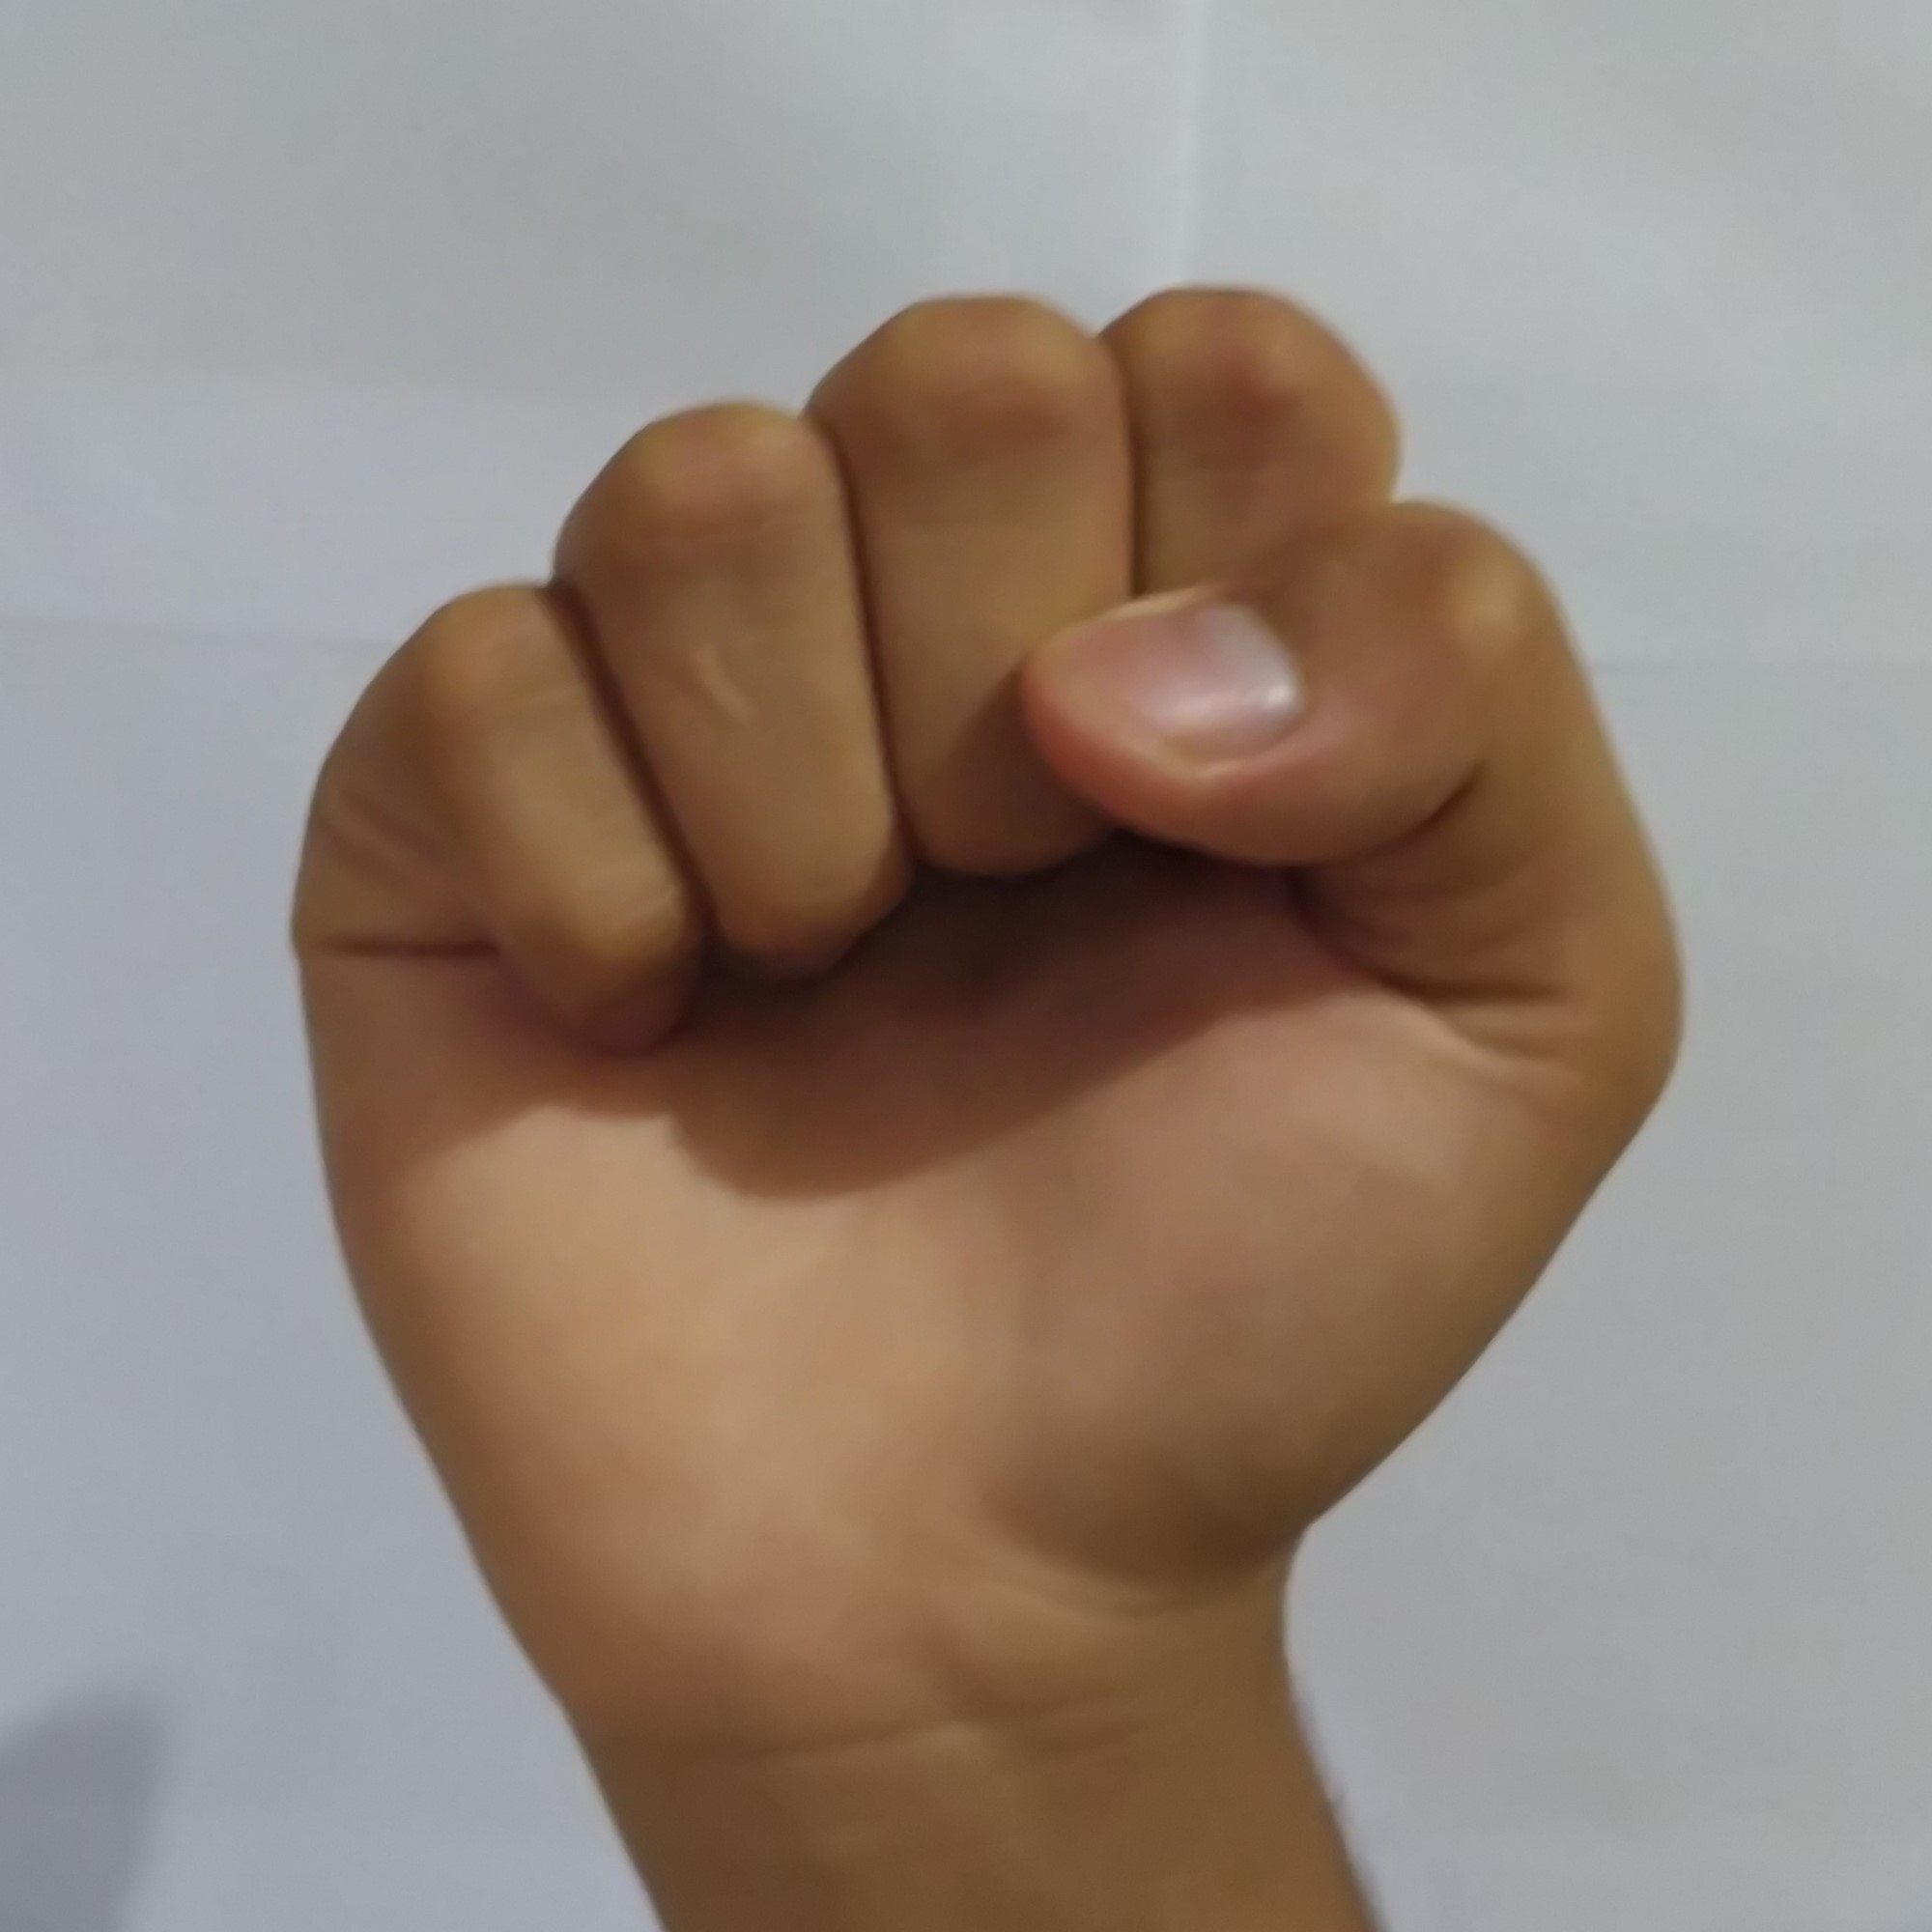S: (260, 255, 1713, 1674)
